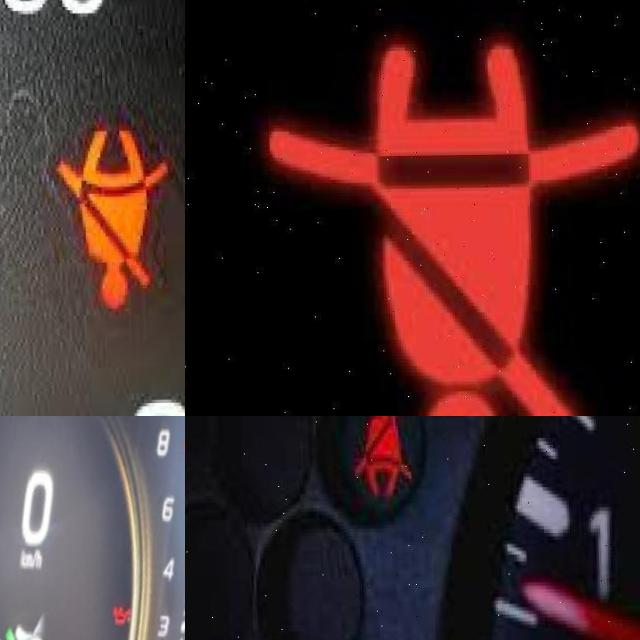Seat Belt: (262, 46, 640, 416), (49, 129, 169, 308), (347, 416, 410, 498)
